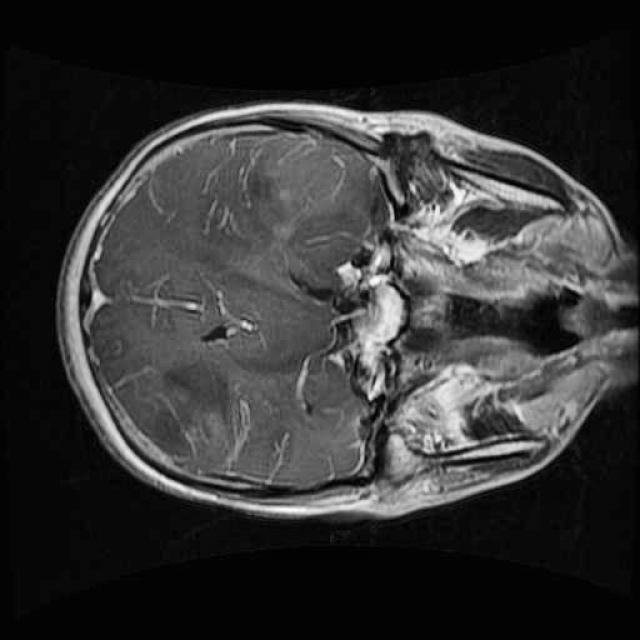Non-Tumor: (110, 342, 250, 476)
